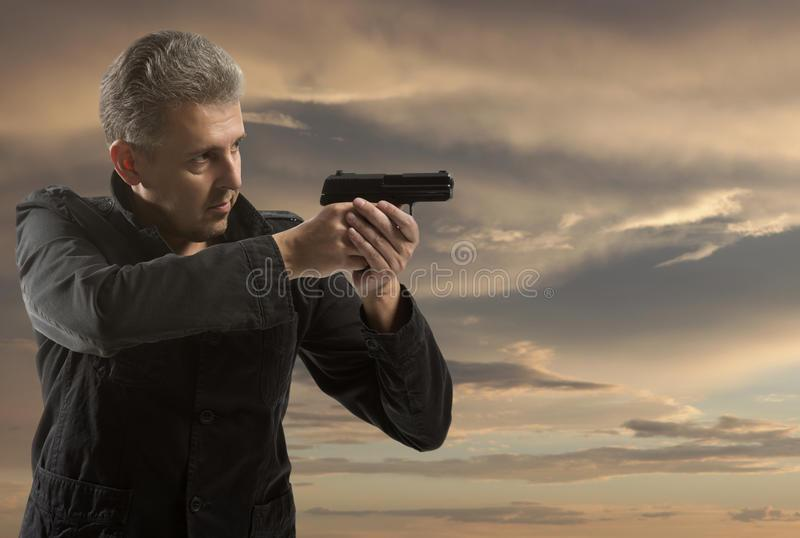criminal: (14, 28, 459, 538)
weapon: (317, 167, 457, 237)
